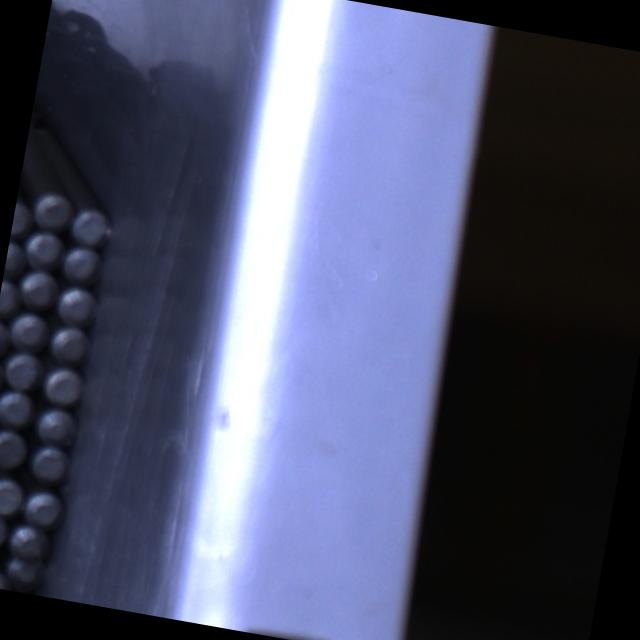tool: (20, 486, 65, 530), (33, 404, 79, 446), (5, 518, 51, 560), (7, 308, 50, 352), (31, 190, 75, 233), (55, 283, 99, 326), (48, 319, 92, 362), (69, 205, 113, 248), (40, 364, 85, 406), (27, 442, 72, 484), (1, 350, 44, 392), (14, 269, 57, 311), (24, 230, 66, 272), (61, 244, 103, 284), (0, 387, 37, 430), (0, 426, 30, 470), (6, 556, 46, 588), (0, 474, 26, 517), (10, 197, 34, 239), (3, 238, 28, 277), (0, 276, 22, 318), (0, 316, 11, 354), (0, 506, 9, 550), (0, 566, 14, 590), (0, 355, 5, 395)
